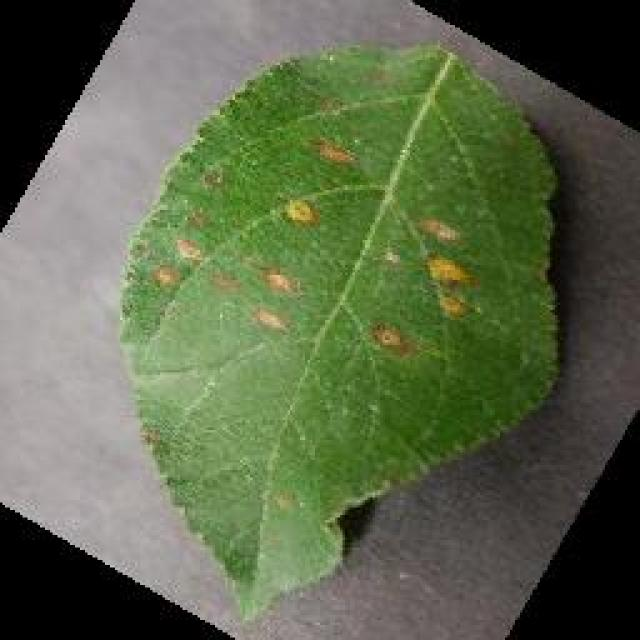Apple___Cedar_apple_rust: (109, 32, 567, 631)
